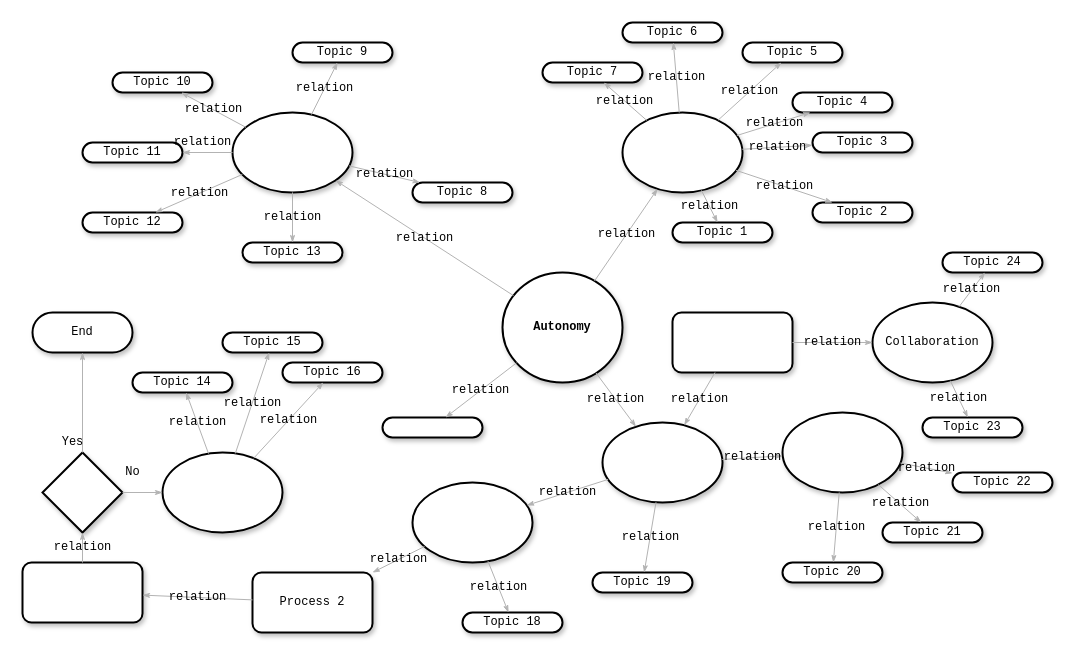
Some shapes in this 1076 by 657 pixel diagram are drawn without their labels. Here are the shapes that lost their labels. From the top down, the centre of each, then its label:
the point at 293,153: Cohesion
the point at 683,153: Capability
the point at 733,343: Process 1
the point at 433,428: Topic 17
the point at 663,463: Awareness
the point at 843,453: Perception
the point at 83,493: Condition
the point at 223,493: Mission
the point at 473,523: Understanding
the point at 83,593: Process 3
